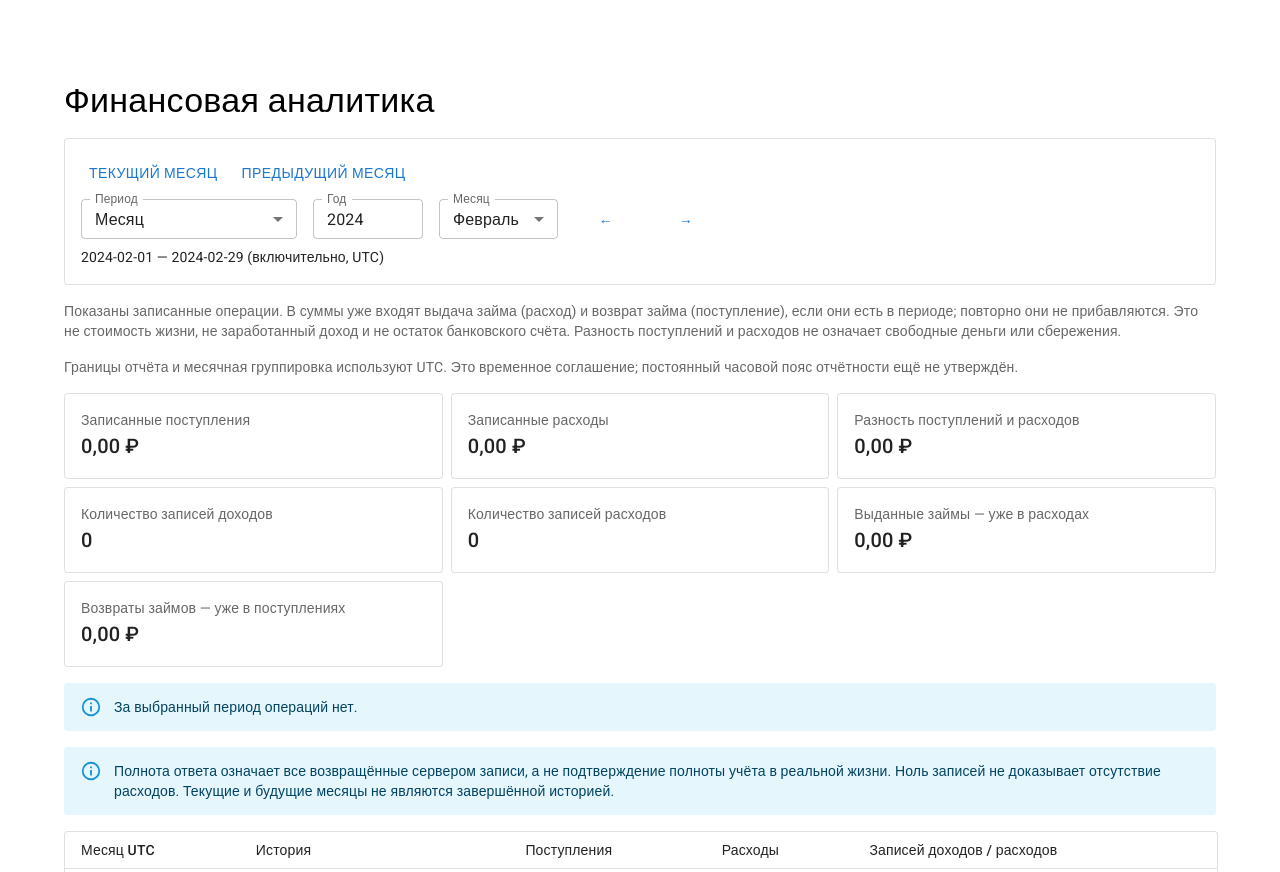
Scenario: read-only AnalyticsPage with mocked RTK Query transport › validates custom input, retains it for correction, hides totals and skips requests
This screenshot has width=1280, height=872.
expect the text "Записанные поступления" is shown: met, box x1=81 y1=412 x2=250 y2=428
Select "Произвольный период" in the dropdown labelled "Период" at (189, 220), box x1=81 y1=200 x2=297 y2=240
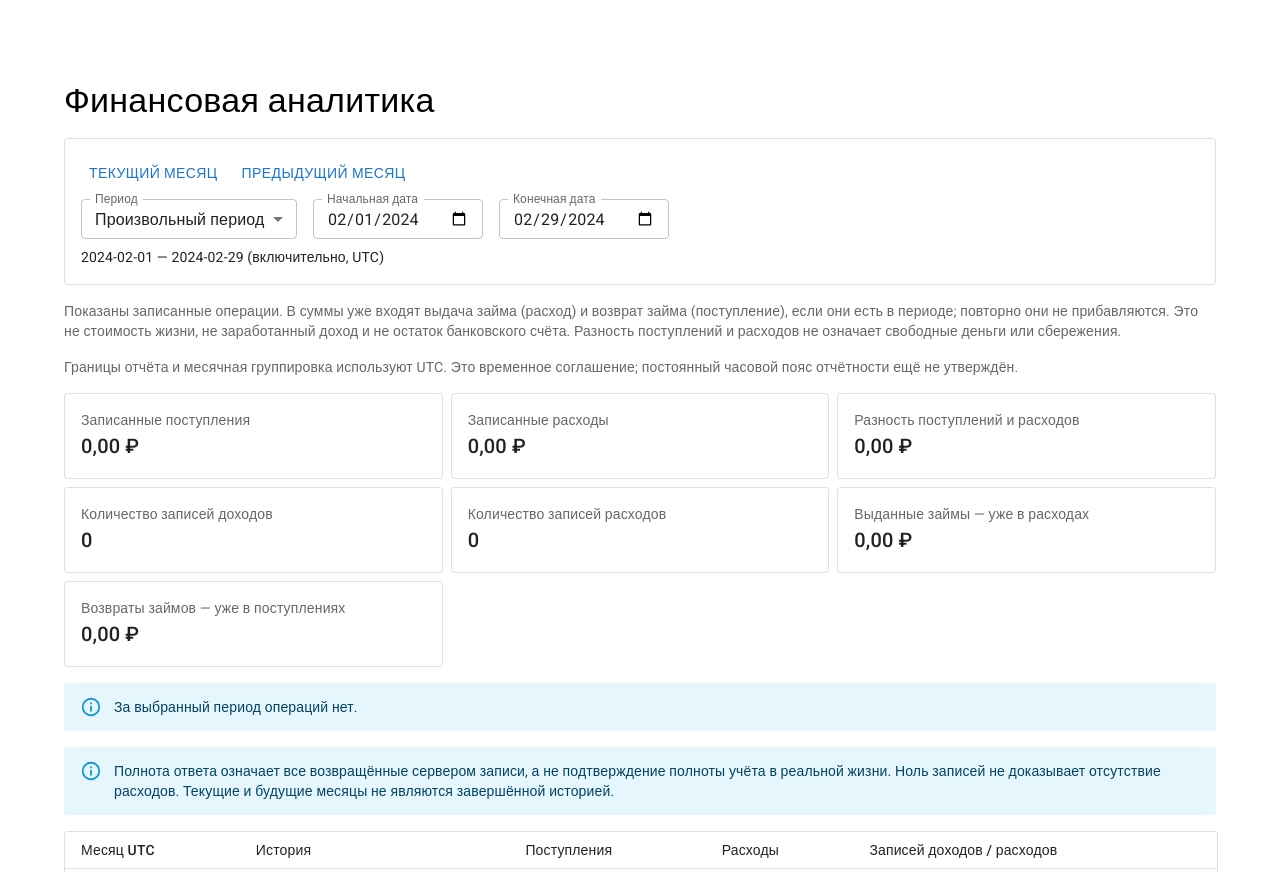
expect the text "Записанные поступления" is shown: met, box x1=81 y1=412 x2=250 y2=428
Type "2024-03-01" into the date field labelled "Начальная дата" at (398, 220), box x1=313 y1=200 x2=483 y2=240
Wait 100 ms
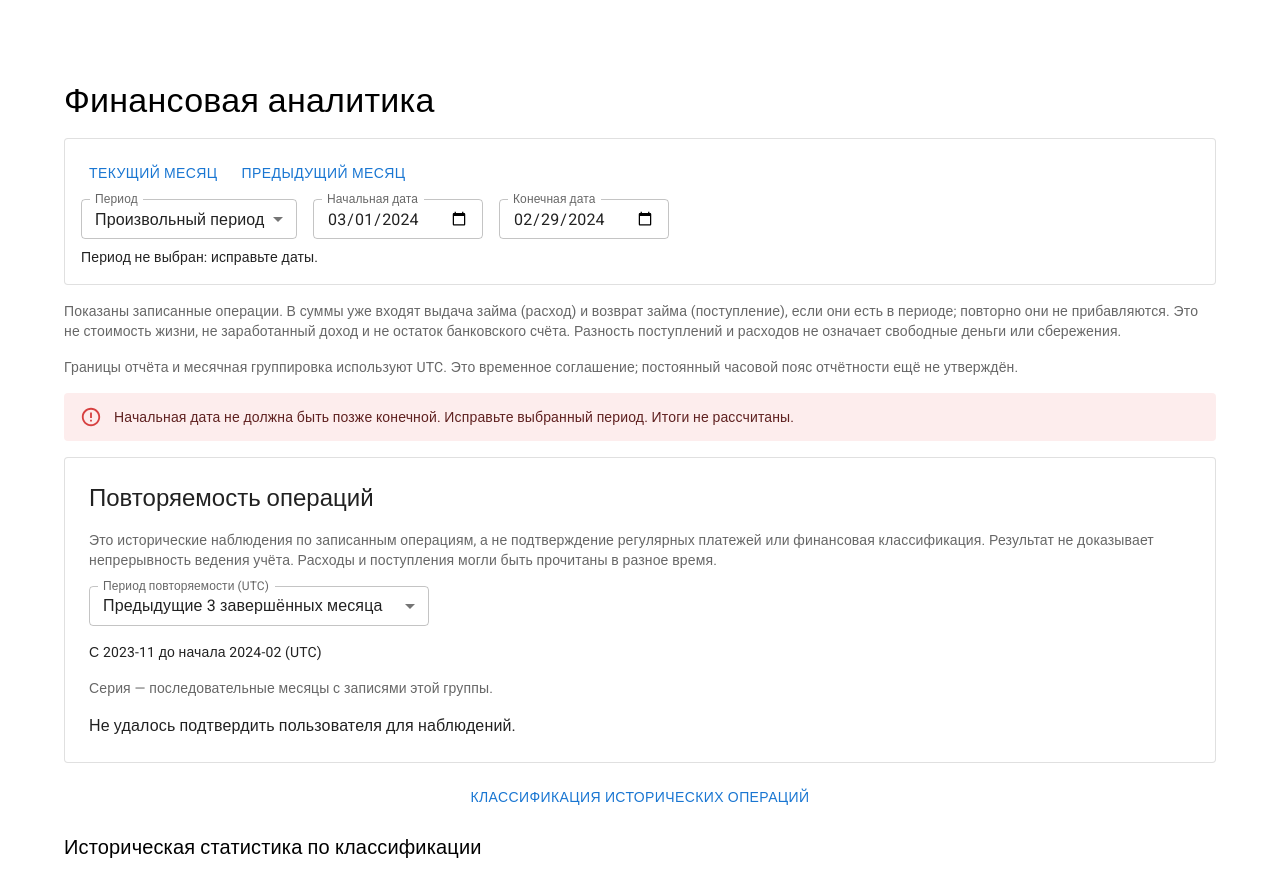
expect the date field labelled "Конечная дата" holds "2024-02-29": met, box x1=499 y1=200 x2=669 y2=240
expect the message shows "не должна быть позже": met, box x1=114 y1=408 x2=648 y2=424
expect the text "Записанные поступления" is gone: met
Clear the date field labelled "Начальная дата" at (398, 220), box x1=313 y1=200 x2=483 y2=240
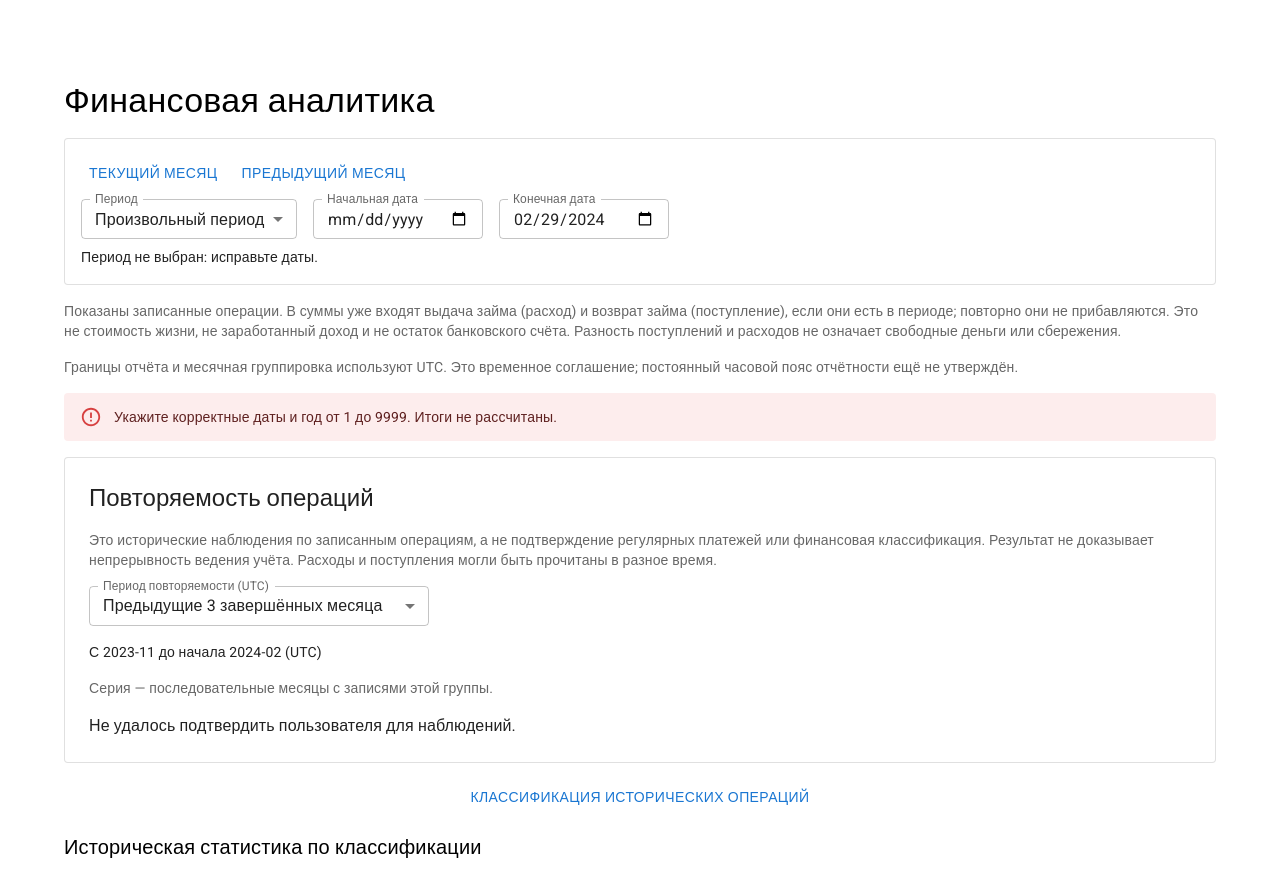
expect the message shows "Укажите корректные даты": met, box x1=114 y1=408 x2=411 y2=424
Type "2024-03-31" into the date field labelled "Конечная дата" at (584, 220), box x1=499 y1=200 x2=669 y2=240
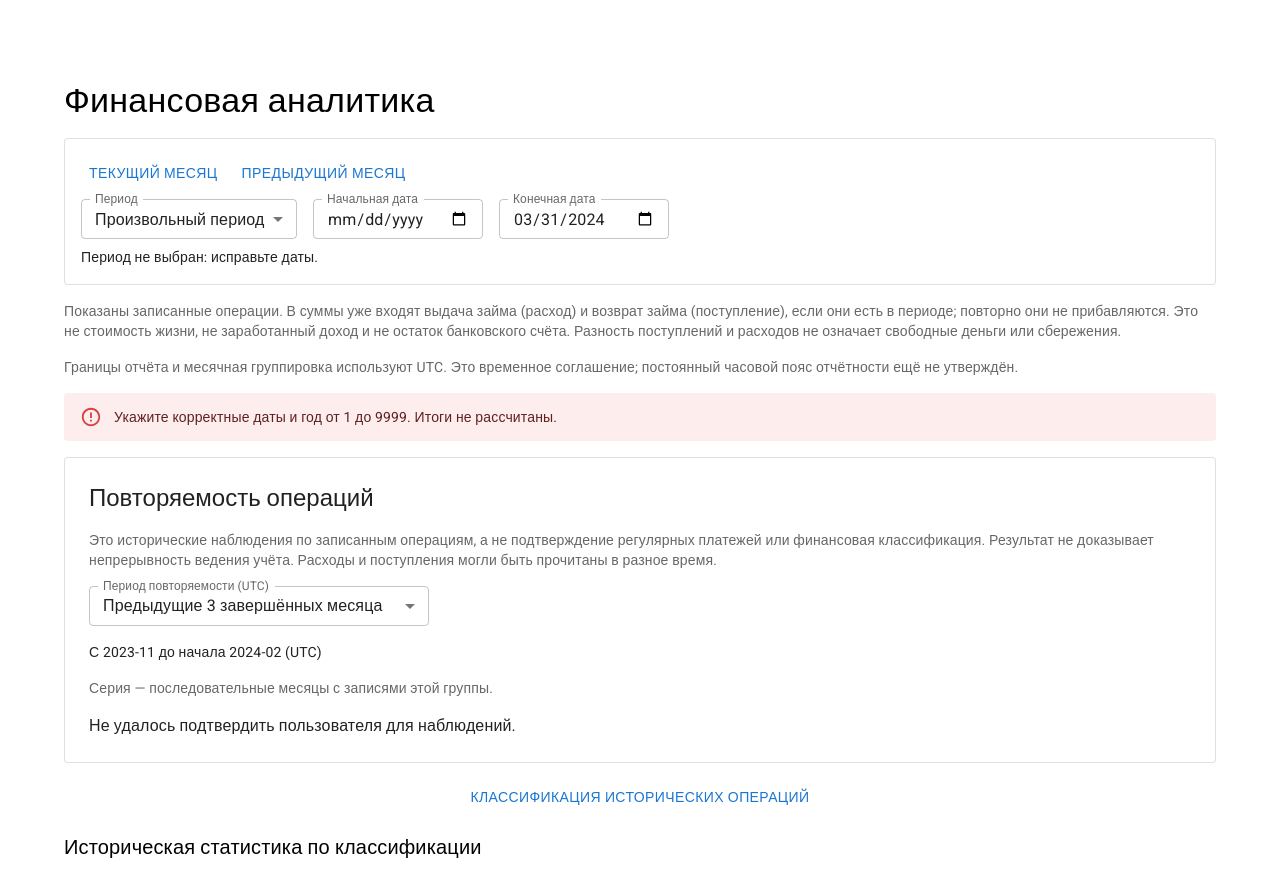
Type "2024-03-01" into the date field labelled "Начальная дата" at (398, 220), box x1=313 y1=200 x2=483 y2=240
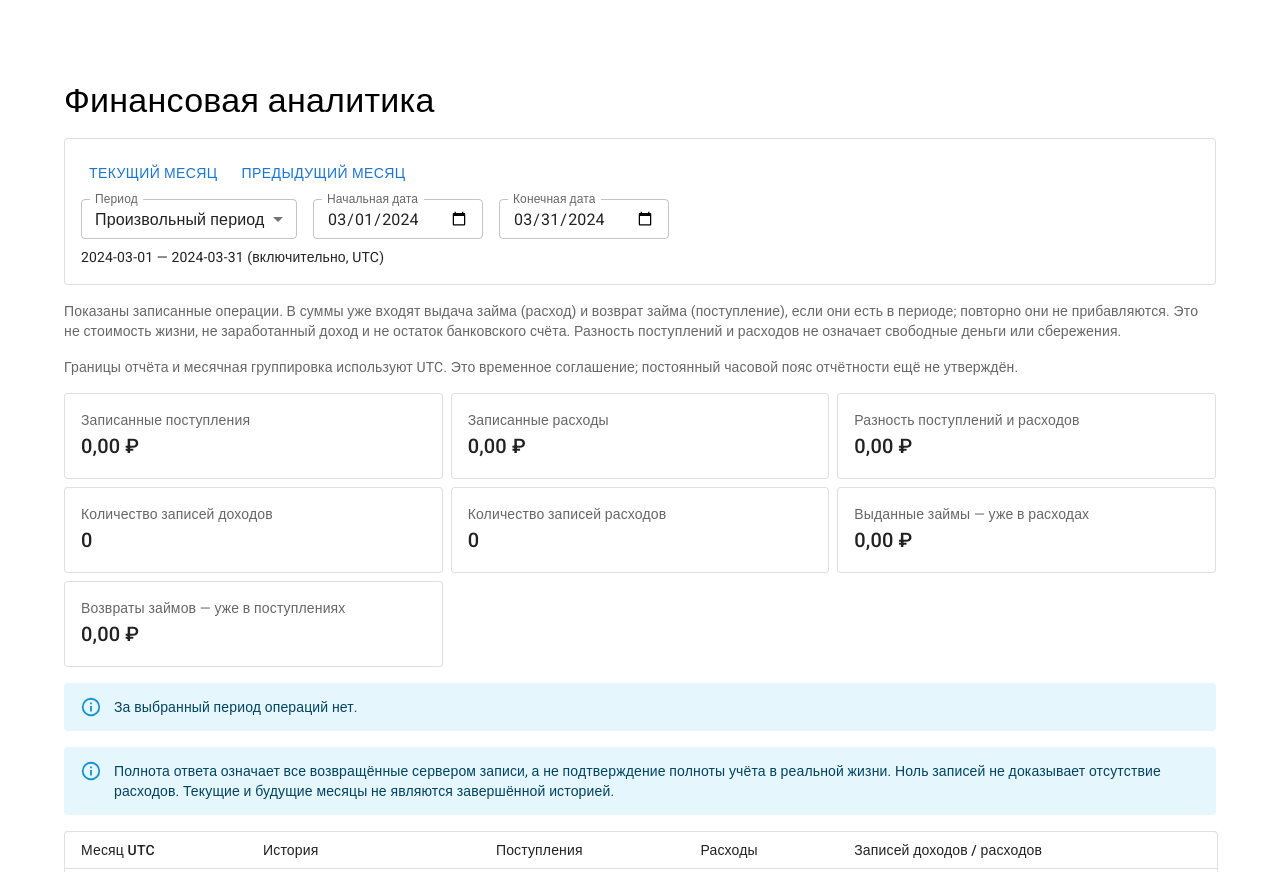
expect the text "Записанные поступления" is shown: met, box x1=81 y1=412 x2=250 y2=428
expect the text "2024-03-01 — 2024-03-31 (включительно, UTC)" is shown: met, box x1=81 y1=250 x2=384 y2=266
